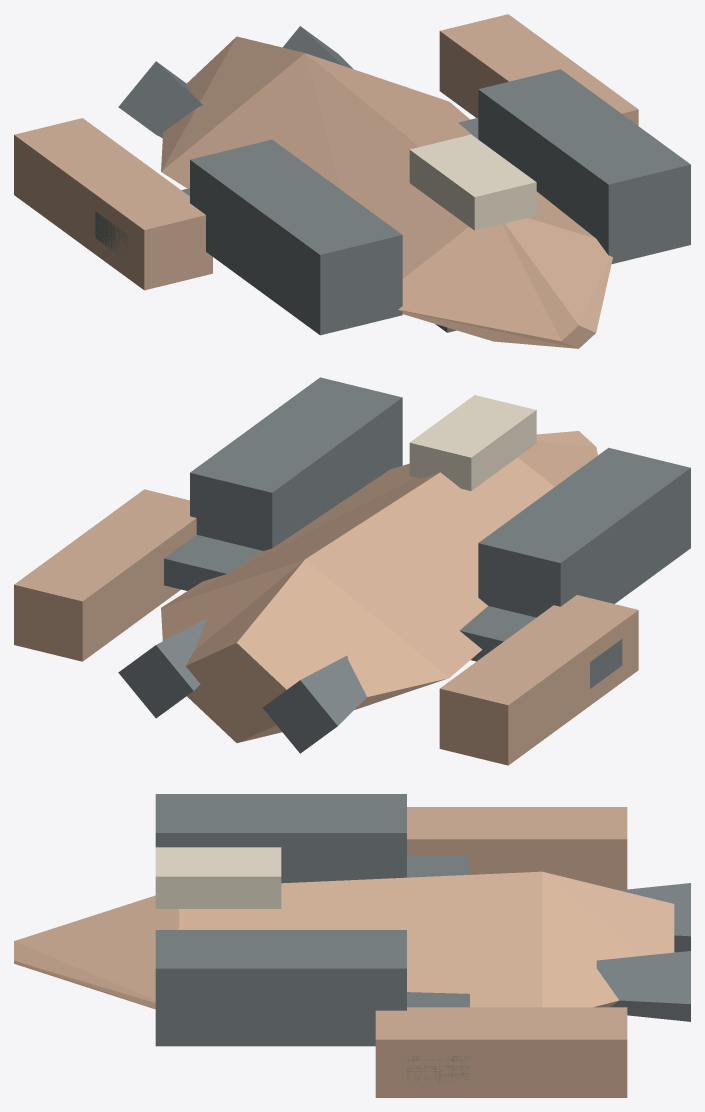
3 views of the same model, one above another, from view 1: azimuth 30°, elevation 25°; view 2: azimuth 150°, elevation 25°; view 3: azimuth 270°, elevation 25° (orthographic). The views are drawn at different scales.
Bounding box in the file's own units: 3.4 × 1.17 × 4.18.
